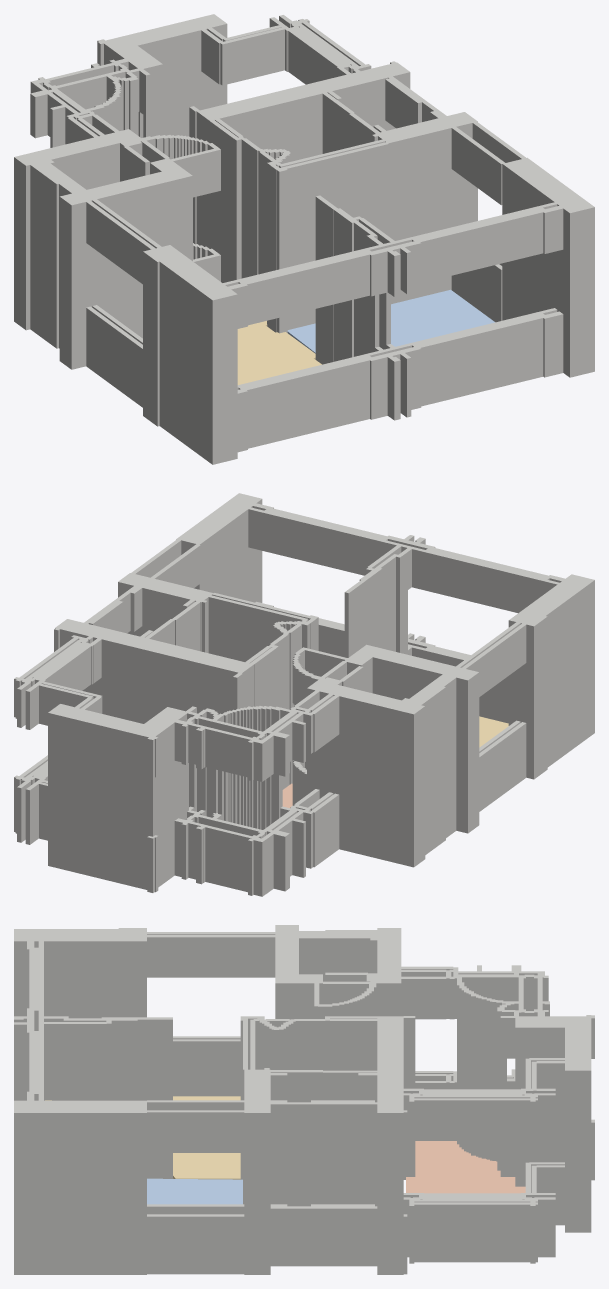
3 renders of one model, top to bottom at view 1: azimuth 30°, elevation 25°; view 2: azimuth 150°, elevation 25°; view 3: azimuth 270°, elevation 25°, orthographic. The views are drawn at different scales.
Parts seen in each view (by area): view 1: walls, room:bedroom:5, room:living:1; view 2: walls, room:living:1; view 3: walls, room:kitchen:2, room:bedroom:5, room:living:1.
Part boxes in pixels (x1,y1,x2,y2): walls: (14,14,594,464); room:bedroom:5: (287,289,494,353); room:living:1: (237,321,321,384); walls: (14,493,594,896); room:living:1: (479,716,508,747); walls: (14,925,594,1274); room:kitchen:2: (406,1141,525,1193); room:bedroom:5: (147,1178,242,1204); room:living:1: (45,1096,240,1179).
Size of the model in its own units: 6.96 by 2.8 by 9.1.
